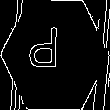P_S: (39, 30, 71, 80)
